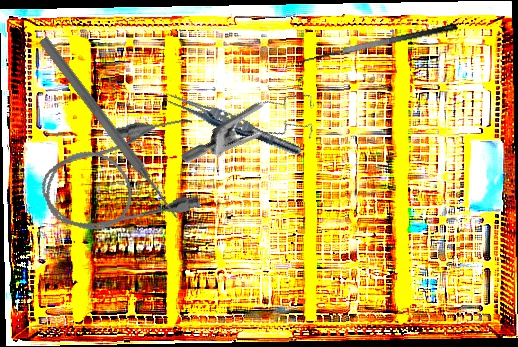Cannula: (31, 109, 213, 245)
Pusher: (36, 34, 183, 223)
Spatula Surgical: (296, 21, 461, 75)
Speculum: (179, 55, 332, 214)
Tissue Forceps: (158, 87, 306, 160)
